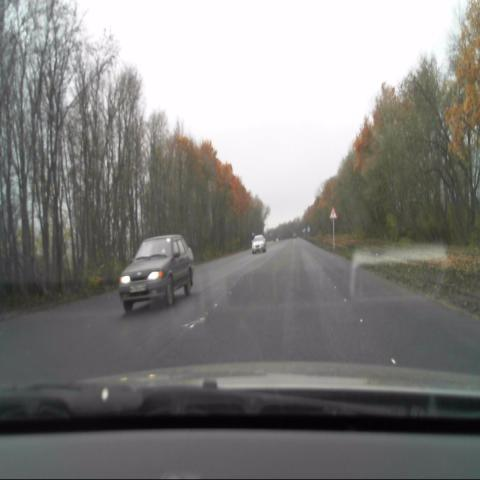1_22: (330, 206, 338, 220)
